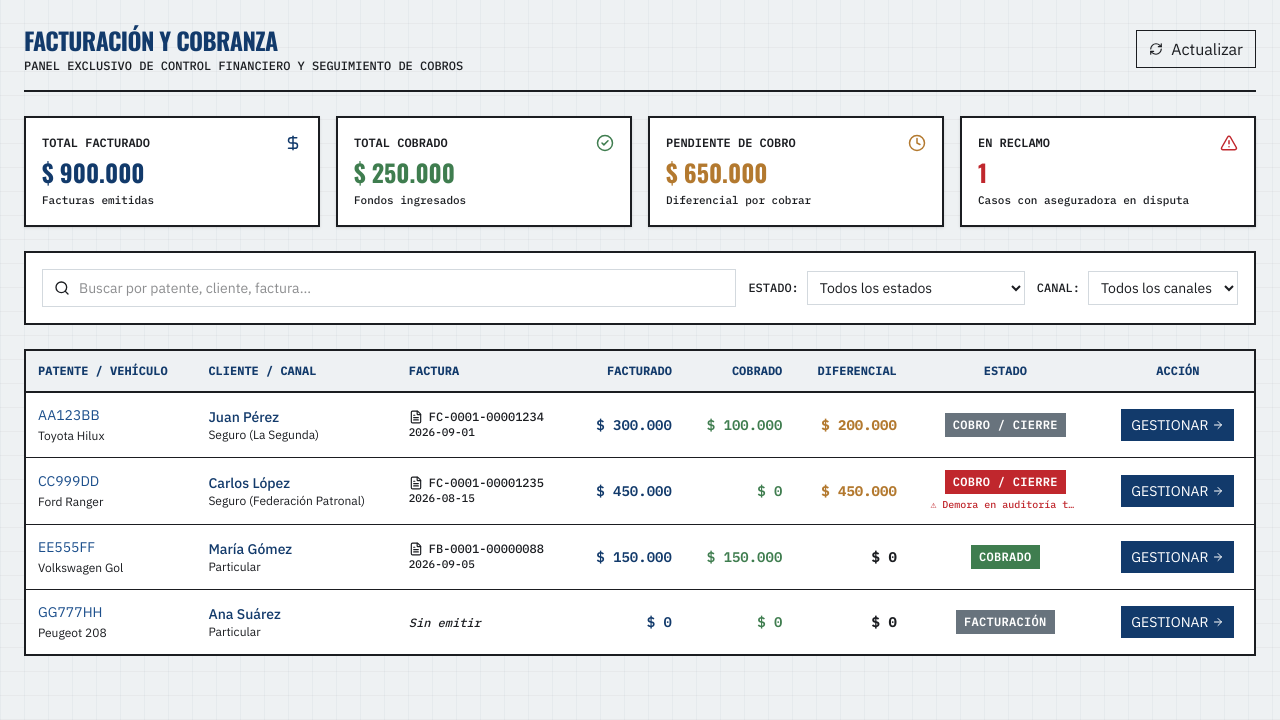
Test: FacturacionPage › filtra por estado
Expected: the link "AA123BB" is shown, [38,406,100,424]
Select "En Reclamo Aseguradora" in the dropdown labelled "Estado:". click: (916, 288)
box: [807,270,1025,304]
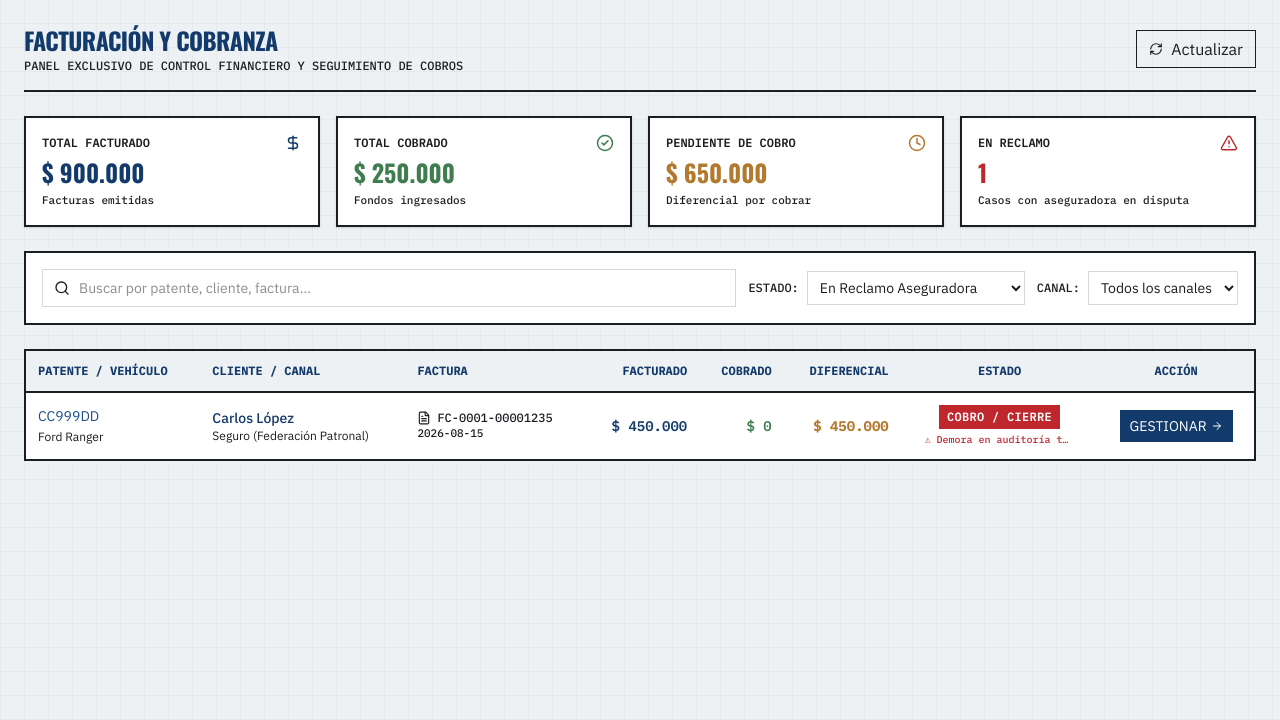
Expected: the link "CC999DD" is shown, [38,407,99,425]
Now the link "AA123BB" is gone
